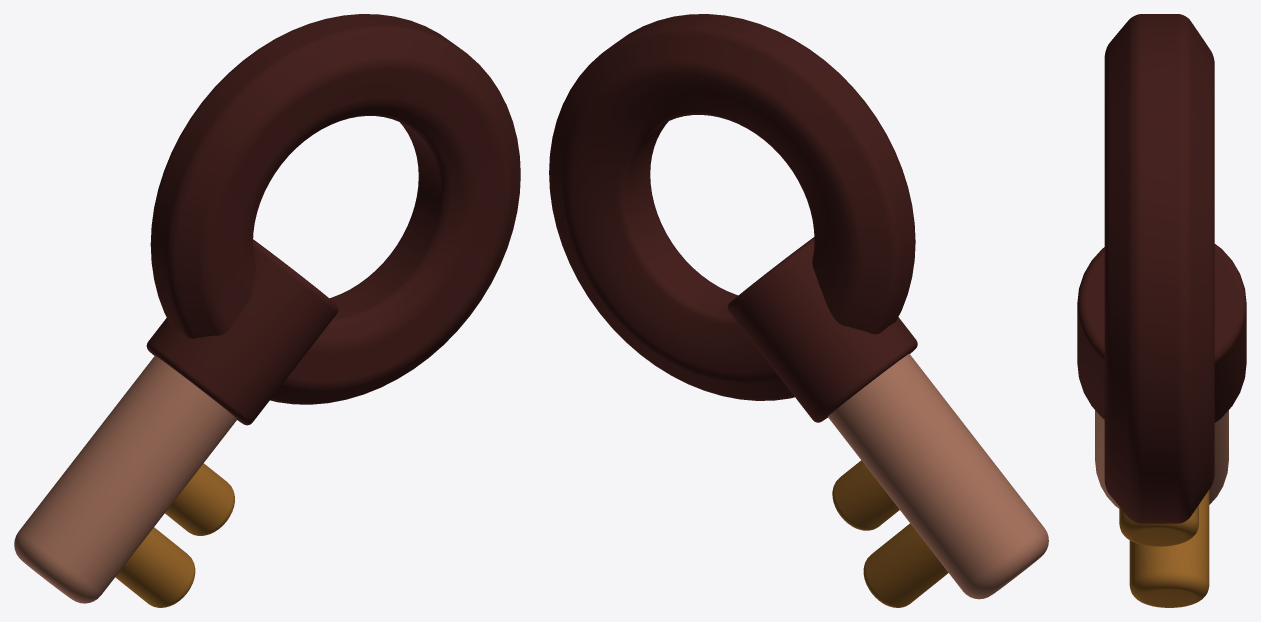
Rendered from Key.fbx.
The picture shows the model from 3 angles, left to right: view 1: azimuth 30°, elevation 25°; view 2: azimuth 150°, elevation 25°; view 3: azimuth 270°, elevation 25°; orthographic projection. The views are drawn at different scales.
Parts seen in each view (by area): view 1: Circle.003, Cylinder.003, Cylinder.002, Cylinder.004, Cylinder.005; view 2: Circle.003, Cylinder.003, Cylinder.002, Cylinder.004, Cylinder.005; view 3: Circle.003, Cylinder.002, Cylinder.004, Cylinder.003, Cylinder.005.
Part boxes in pixels (x1=…): Circle.003: x1=150, y1=14, x2=520, y2=404; Cylinder.003: x1=14, y1=355, x2=237, y2=603; Cylinder.002: x1=146, y1=239, x2=338, y2=425; Cylinder.004: x1=115, y1=527, x2=195, y2=607; Cylinder.005: x1=165, y1=463, x2=234, y2=535; Circle.003: x1=549, y1=14, x2=915, y2=400; Cylinder.003: x1=828, y1=353, x2=1048, y2=599; Cylinder.002: x1=727, y1=237, x2=917, y2=422; Cylinder.004: x1=863, y1=523, x2=948, y2=607; Cylinder.005: x1=832, y1=460, x2=899, y2=530; Circle.003: x1=1104, y1=14, x2=1214, y2=523; Cylinder.002: x1=1077, y1=244, x2=1246, y2=422; Cylinder.004: x1=1129, y1=490, x2=1209, y2=607; Cylinder.003: x1=1095, y1=410, x2=1228, y2=508; Cylinder.005: x1=1119, y1=505, x2=1198, y2=546.
Size of the model in its own units: 135 by 143 by 32.37.
